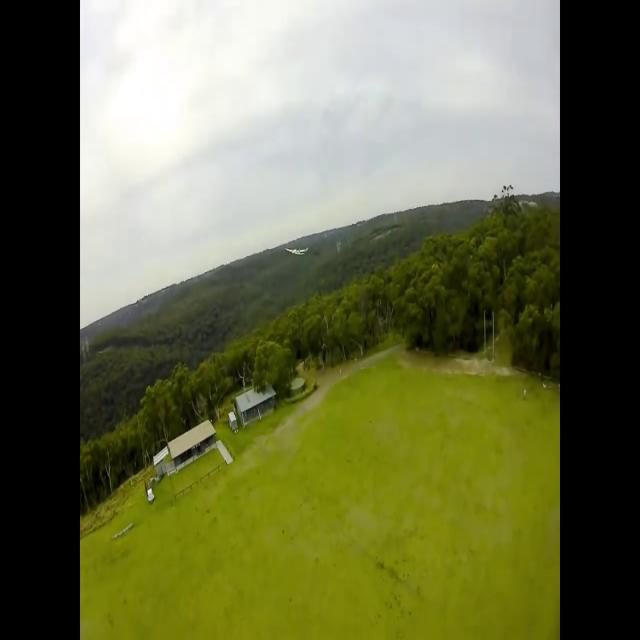iha: (287, 249, 309, 256)
